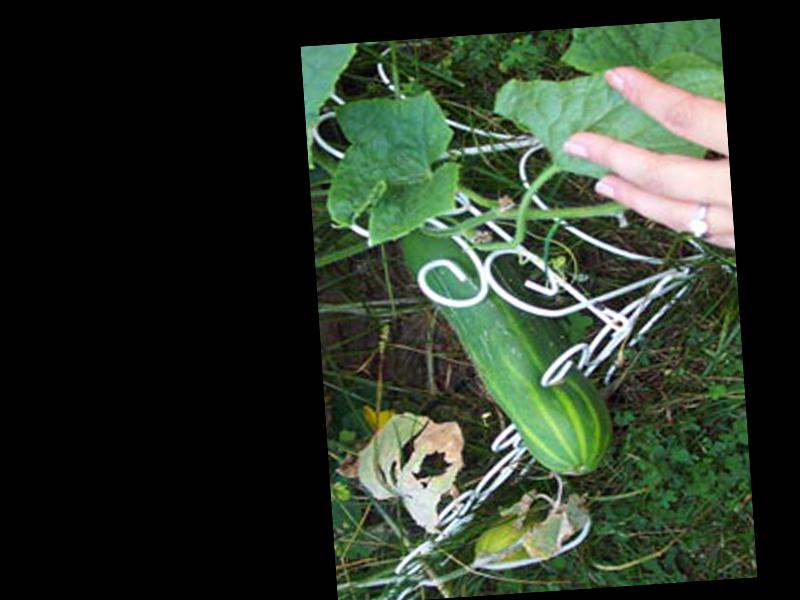Cucumber: (399, 213, 613, 485)
